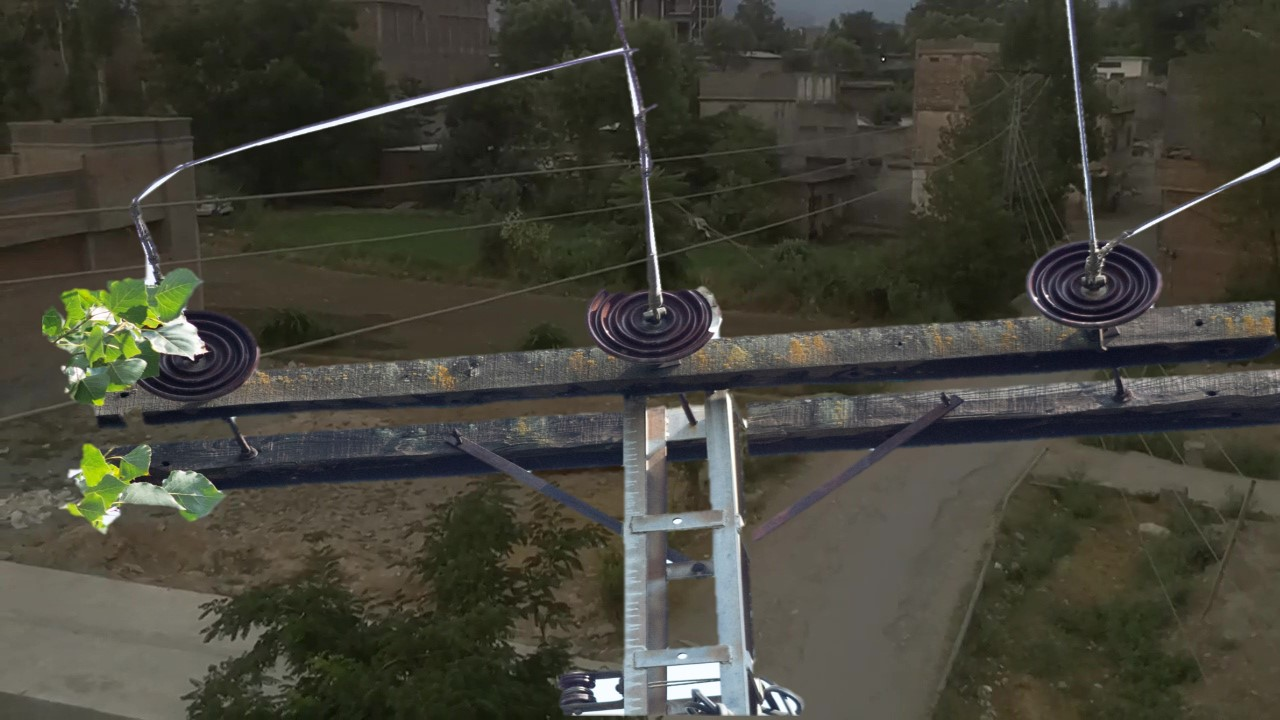defect_disc: (582, 269, 736, 371)
insulator_disc: (1021, 231, 1168, 332), (156, 308, 268, 400)
